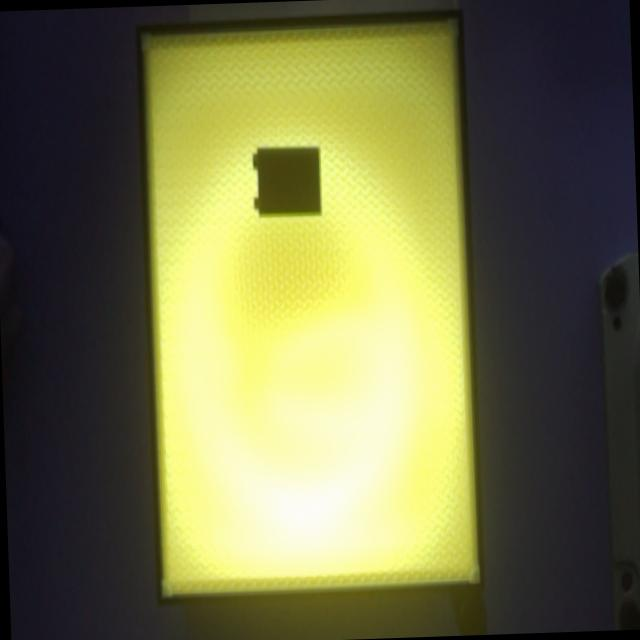bateria: (252, 144, 322, 217)
mesa: (136, 11, 485, 606)
